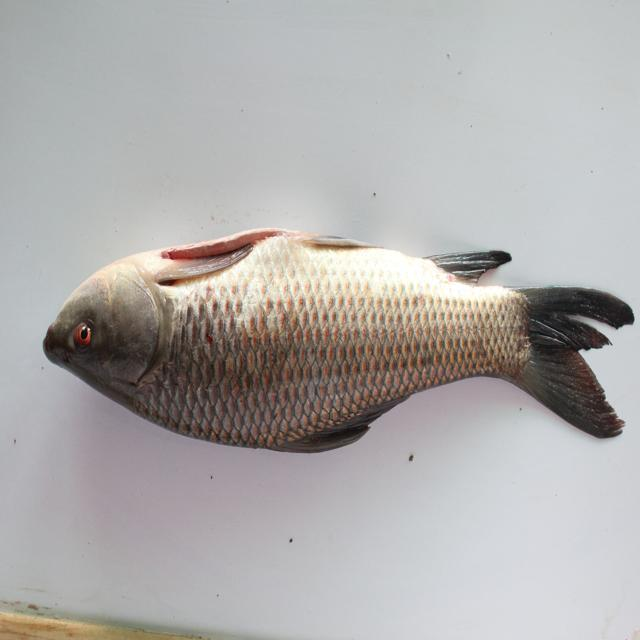Rohu: (54, 227, 628, 482)
